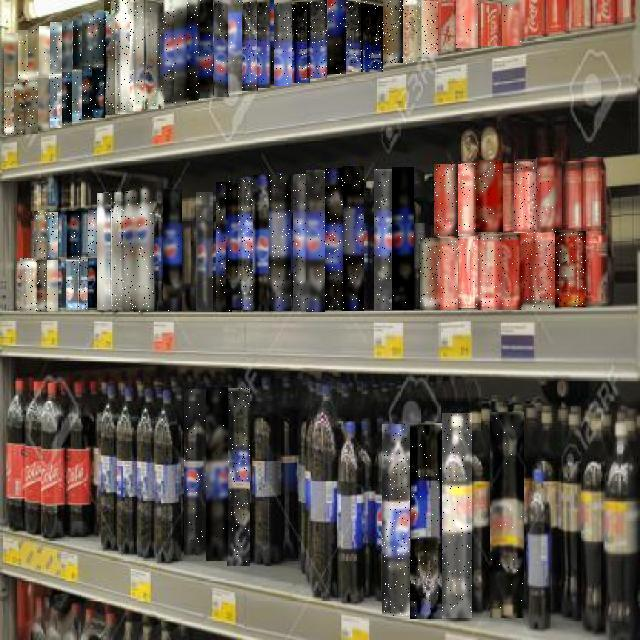Drinks: (490, 413, 524, 619), (410, 423, 442, 619), (442, 413, 472, 618), (382, 424, 410, 616), (227, 388, 250, 566), (206, 387, 228, 561), (185, 389, 207, 557), (342, 166, 364, 311), (392, 167, 414, 310), (269, 174, 291, 311), (306, 171, 325, 313), (253, 175, 272, 311), (374, 169, 392, 311), (325, 168, 343, 310), (135, 186, 155, 312), (522, 234, 555, 310), (554, 231, 586, 307), (293, 174, 310, 311), (163, 189, 182, 311), (144, 0, 164, 109), (115, 0, 134, 114), (238, 178, 254, 310), (226, 179, 242, 310), (216, 182, 232, 312), (109, 191, 126, 311), (196, 192, 213, 311), (130, 0, 148, 111), (536, 158, 562, 232), (124, 191, 140, 311), (477, 160, 503, 232), (104, 0, 120, 115), (478, 235, 502, 311), (434, 164, 458, 236), (514, 159, 537, 233), (502, 233, 524, 310), (98, 193, 112, 310), (361, 0, 383, 72), (307, 0, 327, 78), (274, 0, 292, 86), (292, 0, 310, 83), (160, 0, 174, 106), (174, 0, 188, 105), (459, 235, 479, 308), (242, 0, 258, 91), (214, 0, 229, 97), (458, 164, 478, 236), (439, 238, 459, 310), (420, 238, 440, 310), (258, 0, 274, 88), (188, 0, 202, 100), (328, 1, 346, 75), (229, 0, 243, 94), (383, 0, 403, 63), (345, 0, 362, 72), (201, 0, 213, 98), (402, 1, 420, 64), (478, 0, 502, 46), (457, 0, 479, 48), (502, 0, 524, 46), (20, 259, 38, 313), (422, 1, 438, 57), (92, 10, 106, 64), (5, 33, 19, 84), (25, 80, 38, 134), (49, 74, 62, 128), (92, 65, 105, 118), (34, 211, 48, 260), (67, 211, 81, 260), (66, 259, 79, 310), (4, 82, 16, 136), (14, 82, 26, 135), (38, 78, 50, 131), (50, 22, 62, 75), (28, 28, 40, 80), (82, 12, 93, 66), (37, 259, 48, 312), (39, 26, 50, 79), (47, 260, 58, 311), (62, 72, 72, 126), (82, 66, 92, 120), (47, 212, 58, 260), (88, 258, 98, 310), (18, 30, 28, 82), (62, 20, 72, 72), (72, 70, 82, 122), (78, 259, 88, 310), (73, 16, 82, 69), (88, 210, 98, 256)
